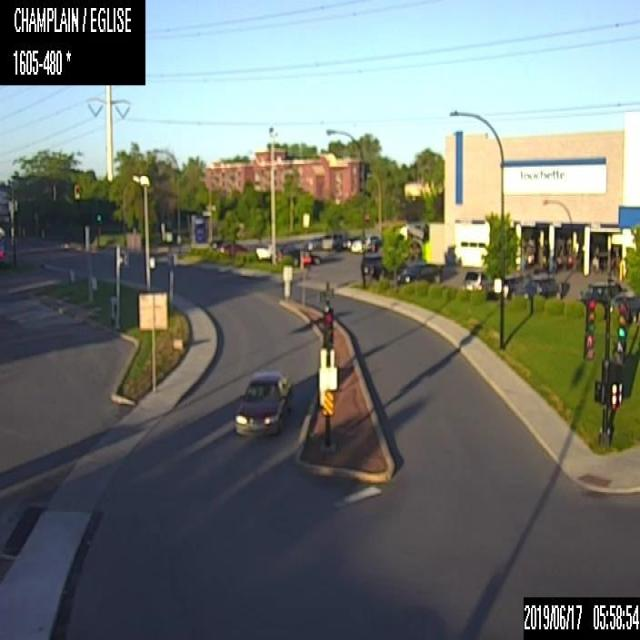vehicle: (233, 367, 292, 436), (396, 261, 443, 285), (576, 280, 621, 304), (610, 290, 639, 322), (518, 275, 556, 298), (359, 253, 392, 279), (491, 273, 524, 298), (270, 241, 304, 264), (463, 268, 495, 292), (292, 247, 319, 265), (321, 230, 345, 248), (255, 241, 279, 259), (220, 240, 247, 255), (364, 232, 382, 248), (366, 238, 381, 251), (307, 235, 321, 248), (209, 238, 223, 250), (351, 238, 362, 251), (342, 236, 353, 249)
